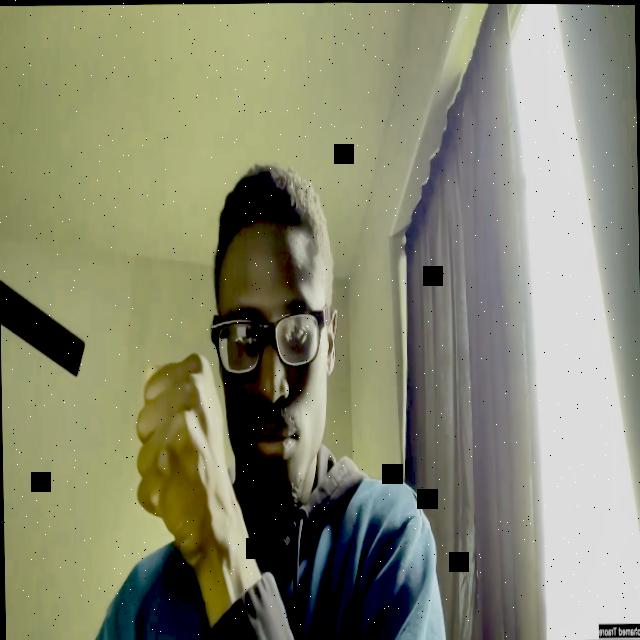Rock: (134, 351, 235, 566)
